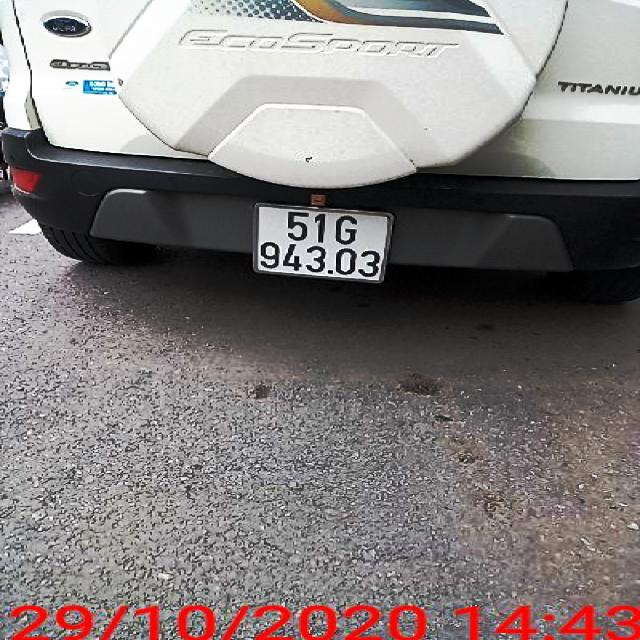license_plate: (249, 205, 394, 284)
